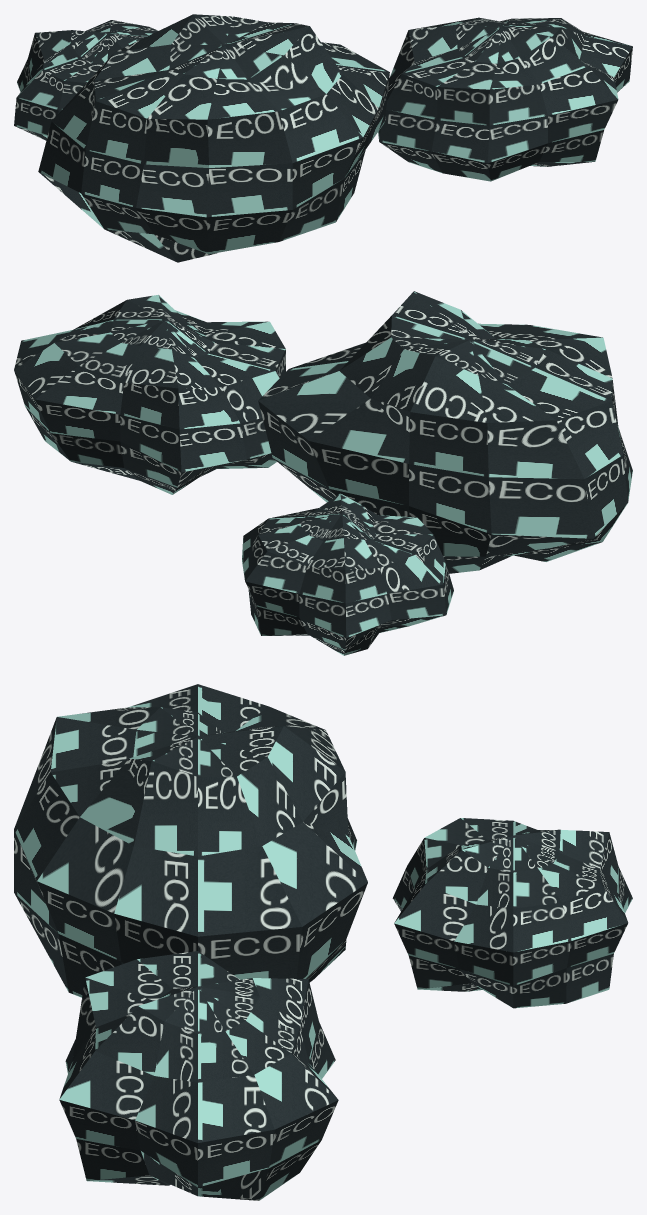
File: rock_cluster_LOD1.obj
3 views of the same model, one above another, from view 1: azimuth 30°, elevation 25°; view 2: azimuth 150°, elevation 25°; view 3: azimuth 270°, elevation 25° (orthographic). The views are drawn at different scales.
Parts seen in each view (by area): view 1: L02_rock_cluster_LOD1; view 2: L02_rock_cluster_LOD1; view 3: L02_rock_cluster_LOD1.
Part boxes in pixels (x1=…): L02_rock_cluster_LOD1: x1=14, y1=14, x2=632, y2=262; L02_rock_cluster_LOD1: x1=14, y1=291, x2=632, y2=655; L02_rock_cluster_LOD1: x1=14, y1=684, x2=632, y2=1200.
Size of the model in its own units: 4.43 by 1.57 by 3.14.
Materials: 1 (1 with a texture image).
